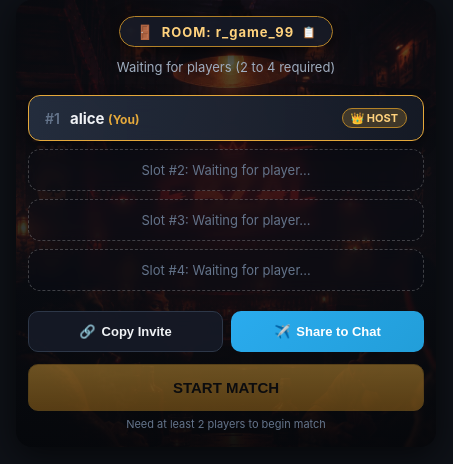
Test case: T-039 Lobby View and App Routing › LobbyView Component › copies invite link to clipboard
This screenshot has width=453, height=464.
Click the button with test id "btn-copy-invite" at (126,332), box [28,311,223,352]
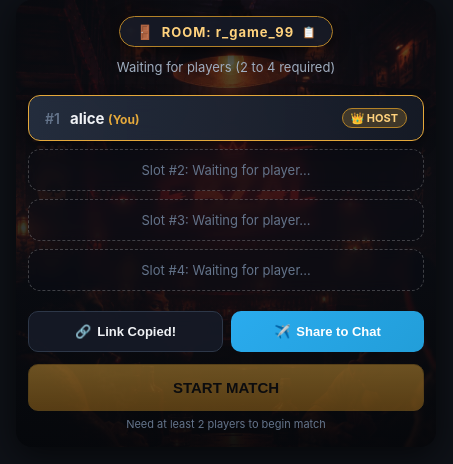
Check: the button with test id "btn-copy-invite" shows "Link Copied!", box [28,311,223,352]
